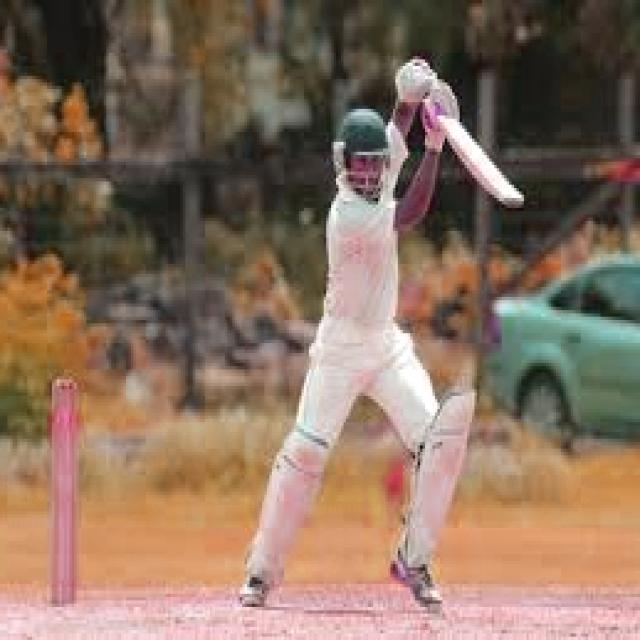toe: (482, 170, 532, 222)
